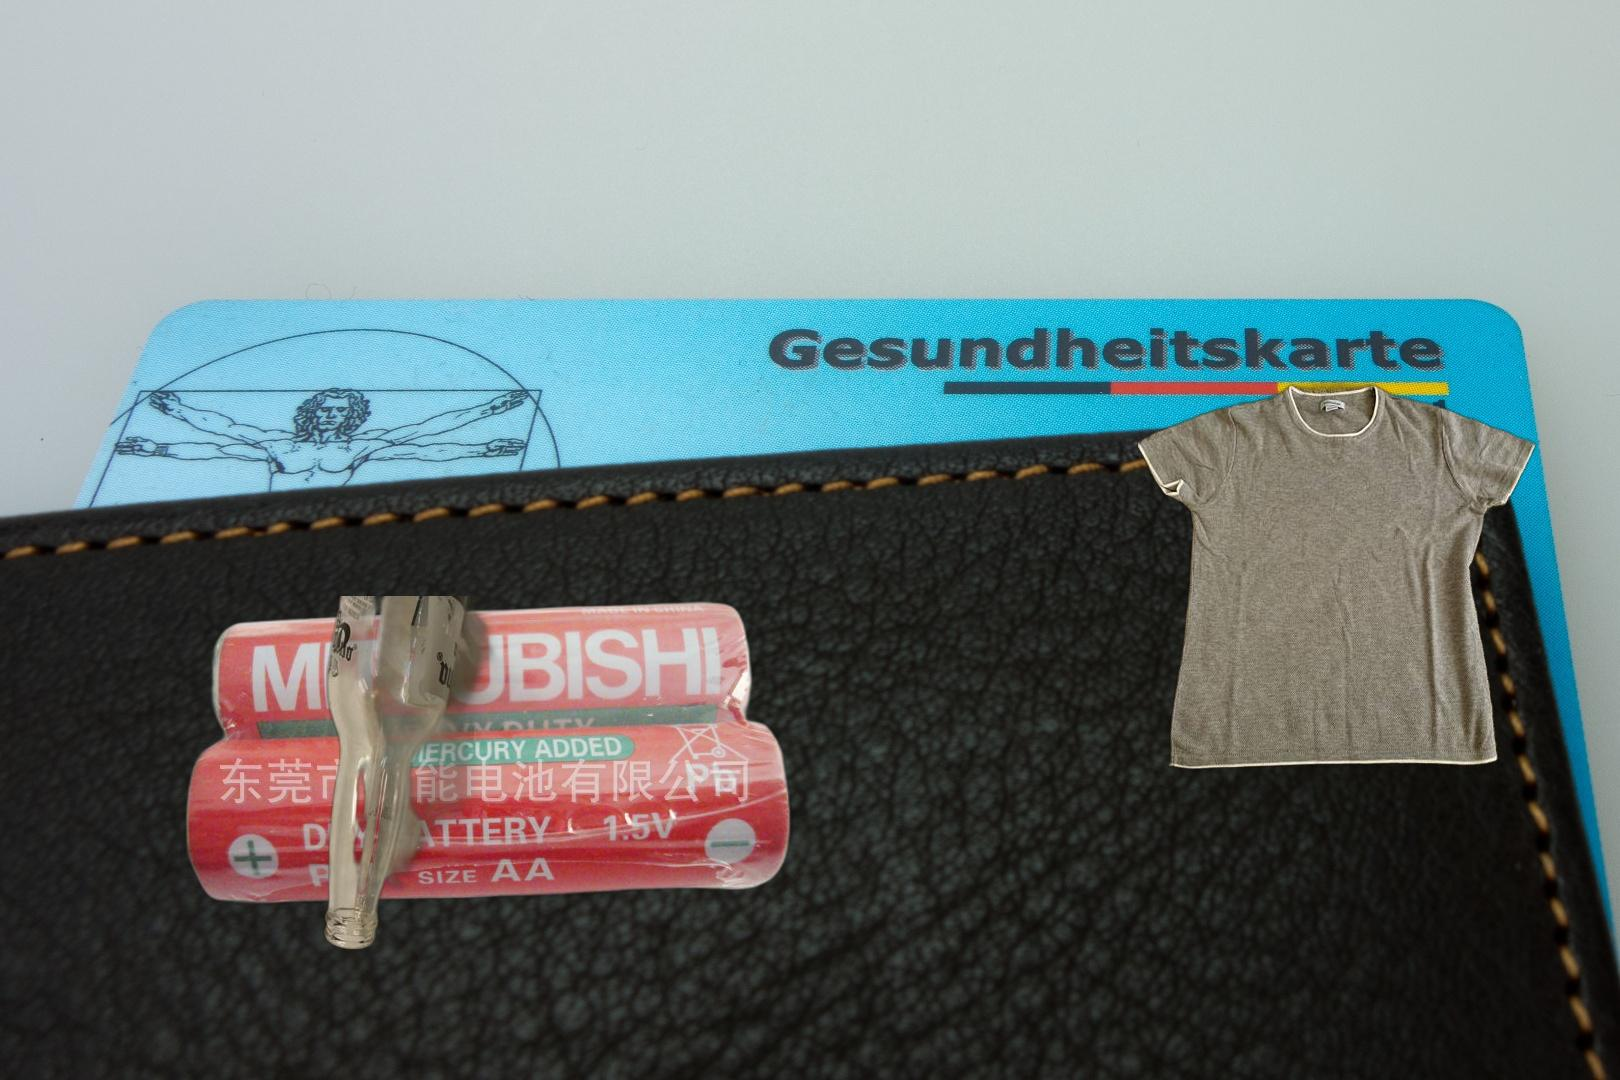battery: (180, 597, 796, 909)
clothes: (1138, 380, 1539, 773)
glass: (319, 595, 667, 953)
